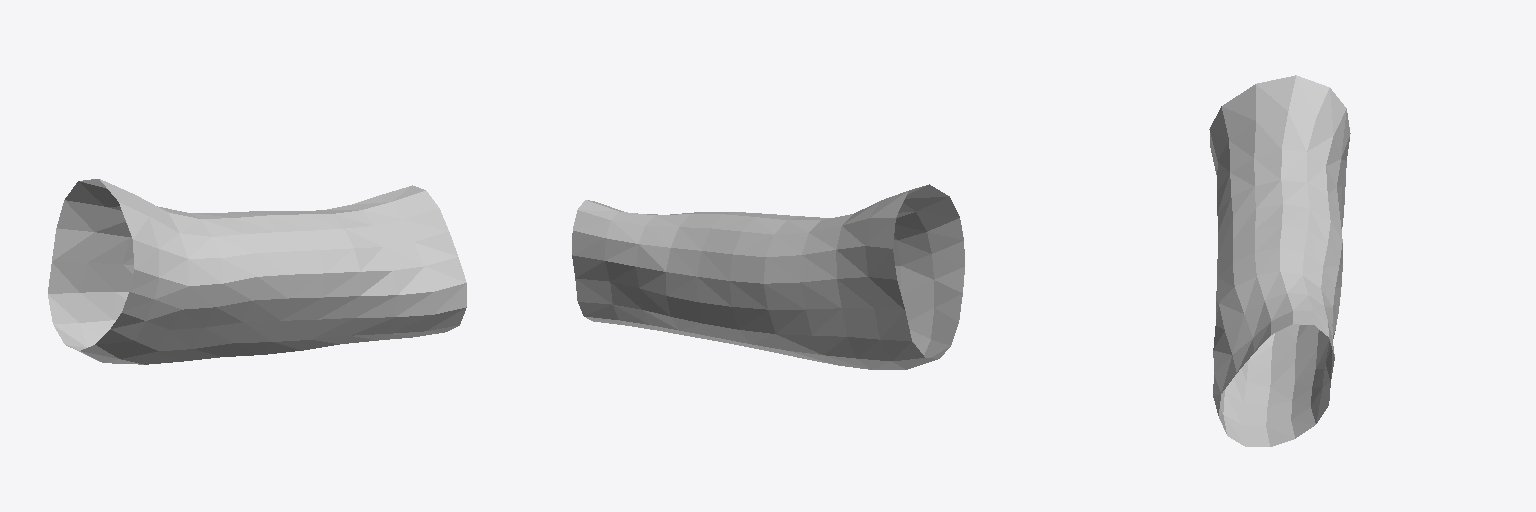
Rendered from LeftShoulder.obj.
3 renders of one model, left to right at view 1: azimuth 30°, elevation 25°; view 2: azimuth 150°, elevation 25°; view 3: azimuth 270°, elevation 25°, orthographic.
Visible parts, largest first — view 1: polySurface16 group2, group2 polySurface24; view 2: polySurface16 group2, group2 polySurface24; view 3: polySurface16 group2, group2 polySurface24.
Part boxes in pixels (left/top/right/bottom): polySurface16 group2: left=48, top=179, right=433, bottom=364; group2 polySurface24: left=379, top=185, right=466, bottom=336; polySurface16 group2: left=605, top=184, right=964, bottom=369; group2 polySurface24: left=572, top=200, right=626, bottom=325; polySurface16 group2: left=1209, top=75, right=1350, bottom=425; group2 polySurface24: left=1213, top=310, right=1334, bottom=446.
Bounding box in the file's own units: 10.56 × 6 × 3.56.